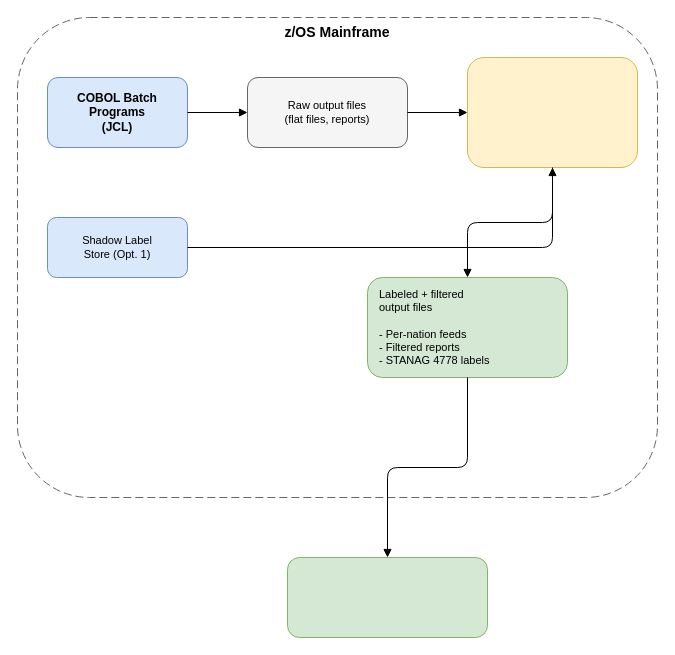
Some shapes in this 675 by 655 pixel diagram are drawn without their labels. The shapes that lost their labels are listed below. From the top down, each one's centre as x and y in pixels, then its label:
(552,112): DCS Export Gateway - Read labels - Filter - Label (4778) - Sign
(387,597): Delivery - FTP to national systems - Secure email - File transfer
